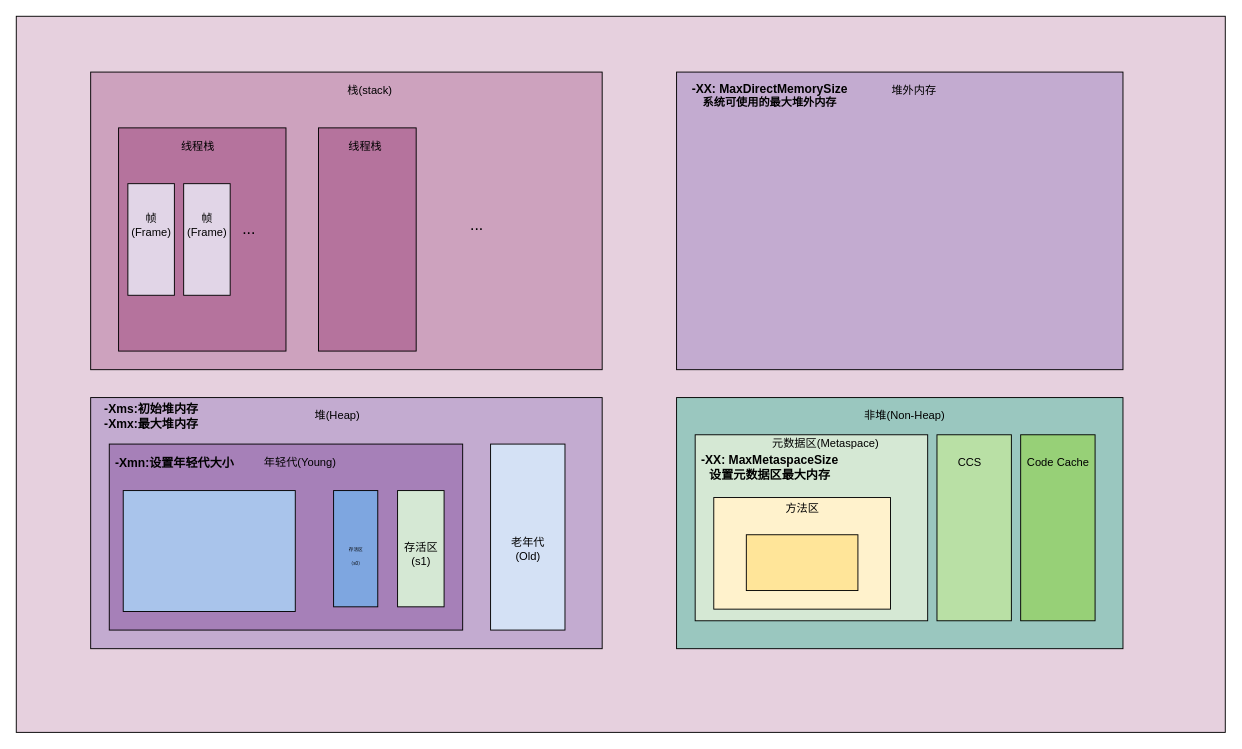
Image size: 1242x749. Some labels were removed from this diagram. Each missing label, with the centre of its shape:
"常量池" goes at point (801, 562).
"新生代(Eden)" goes at point (208, 550).
